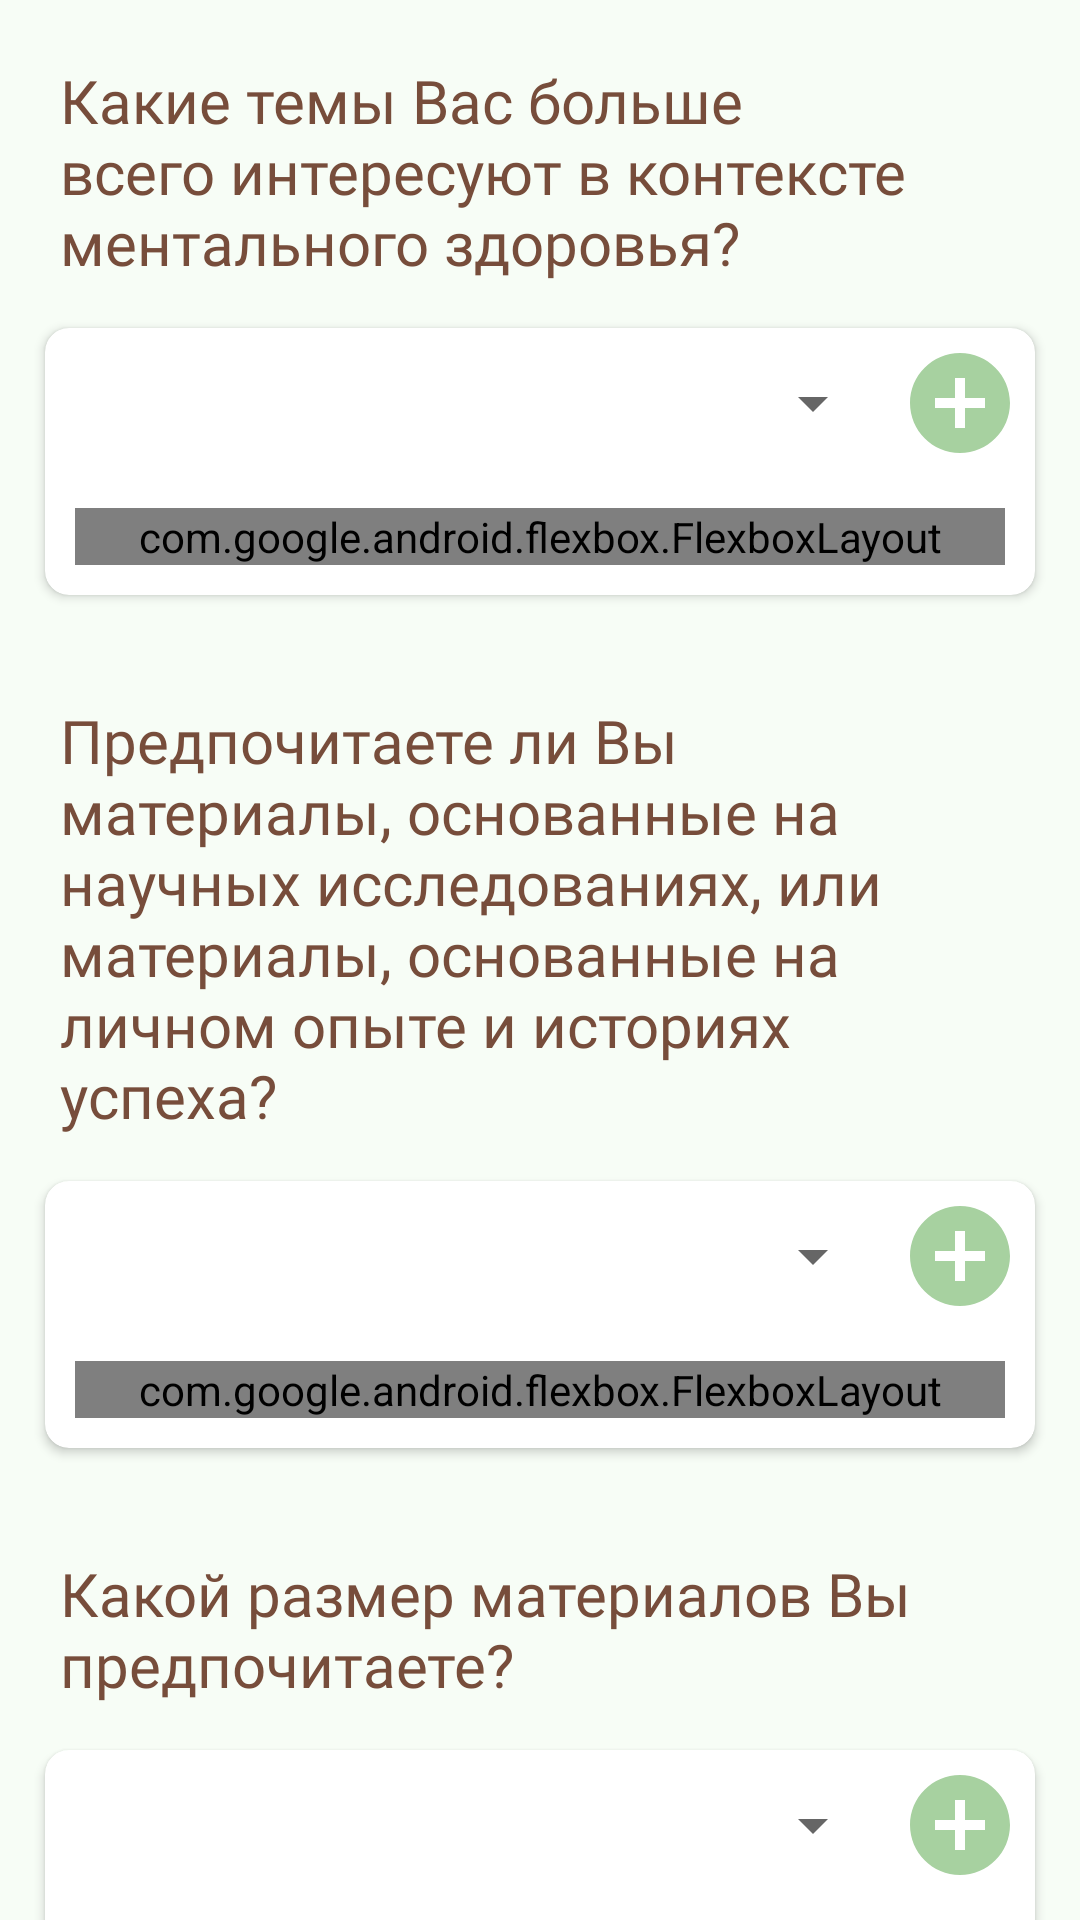

Icons on this 1080×1920 Android screen, each with the point to tap as (x,y):
add circle: (960,403), (960,1256), (960,1825)
